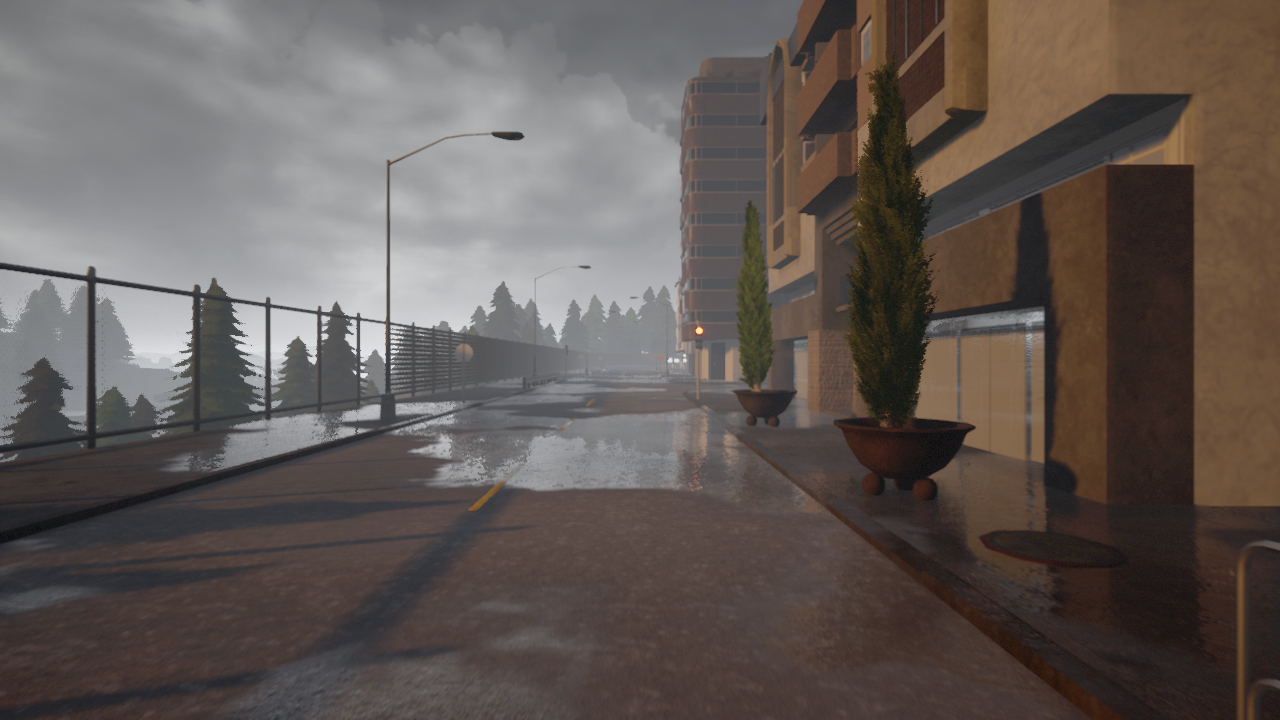red: (694, 325, 704, 350)
